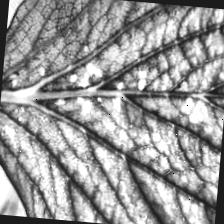Angular Leafspot: (0, 36, 224, 132)
